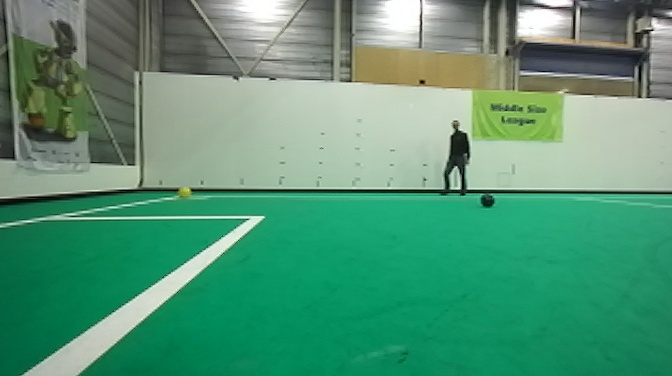ball: (175, 182, 194, 200), (478, 193, 497, 210)
human: (438, 121, 476, 198)
